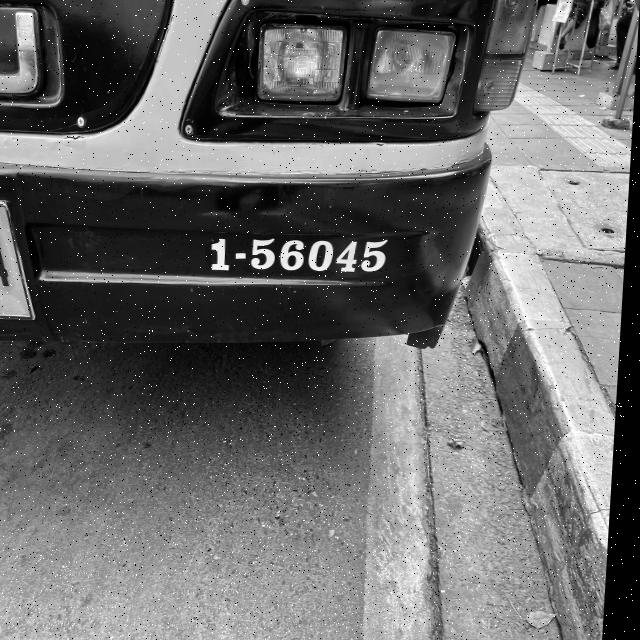BMTA-bus: (0, 0, 533, 349)
Bus Side Number: (201, 230, 406, 286)
